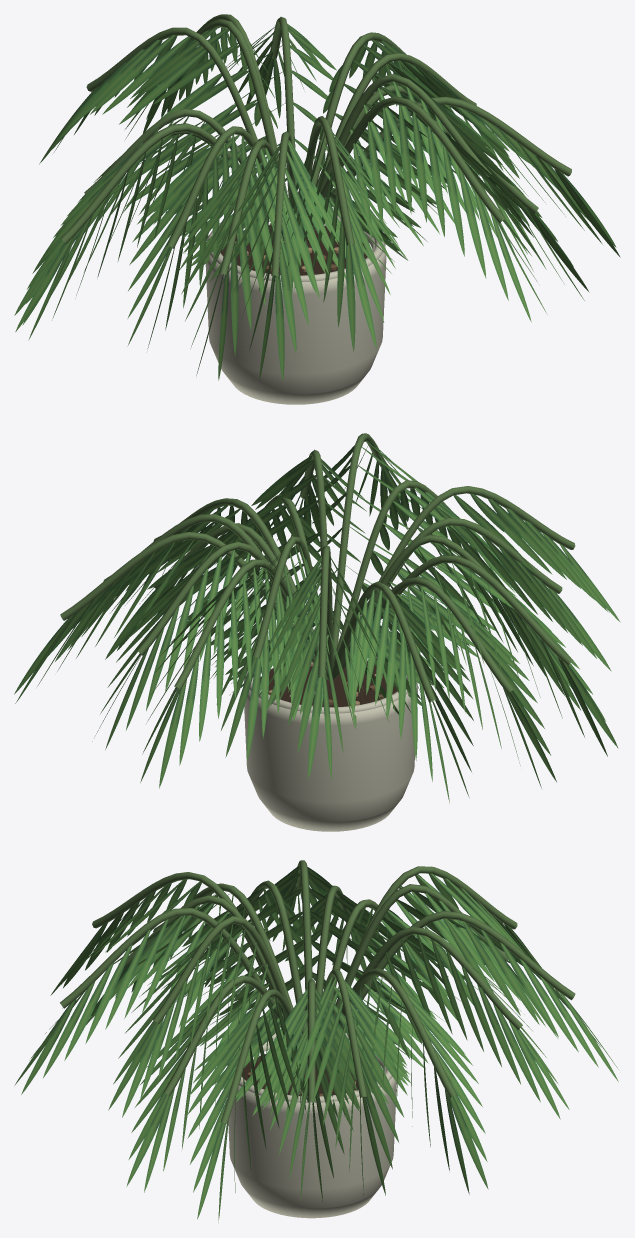
File: officeBostonFern.glb
3 views of the same model, one above another, from view 1: azimuth 30°, elevation 25°; view 2: azimuth 150°, elevation 25°; view 3: azimuth 270°, elevation 25° (orthographic). The views are drawn at different scales.
Bounding box in the file's own units: 0.9211 × 0.5077 × 0.9243.
